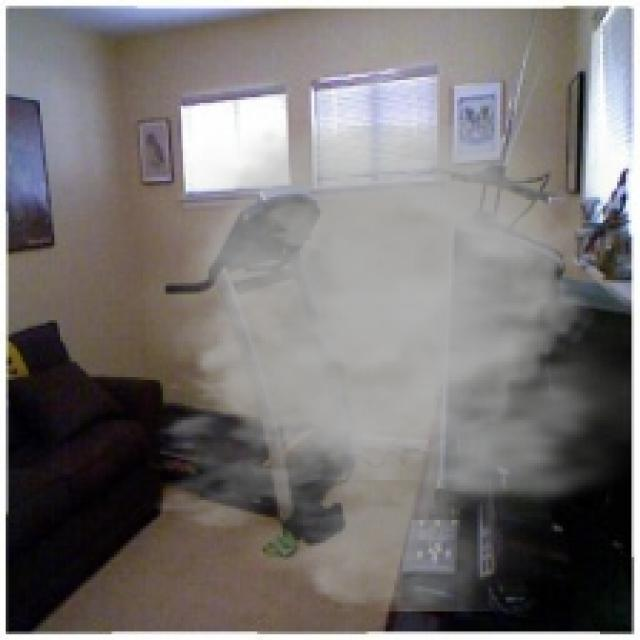Smoke: (103, 94, 632, 612)
